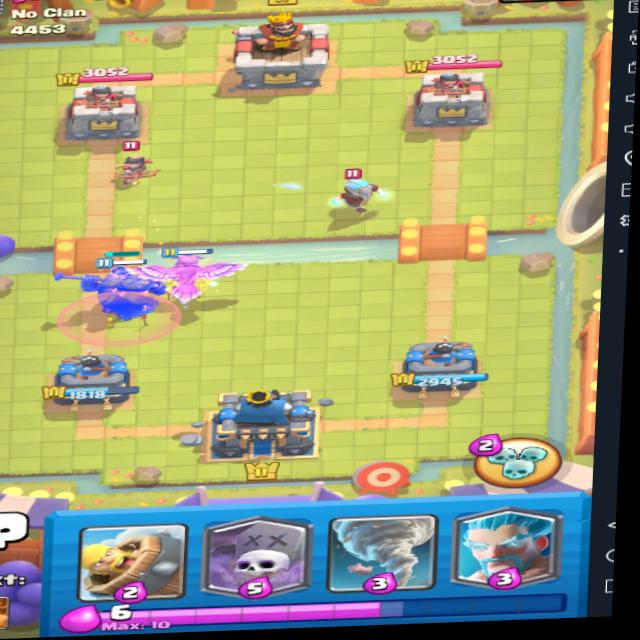ice-wizard: (322, 164, 397, 220)
princess: (103, 137, 165, 190)
